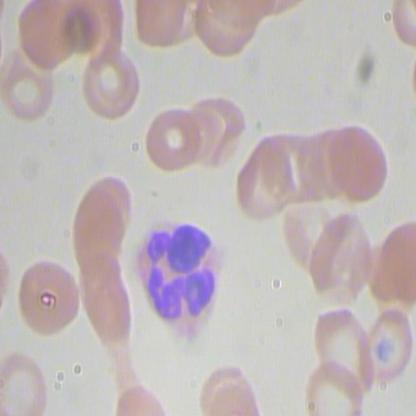RBC: (307, 211, 375, 307), (15, 255, 82, 341), (232, 133, 290, 229), (324, 122, 391, 205), (76, 45, 143, 127), (187, 89, 246, 172), (79, 255, 134, 343), (72, 185, 126, 274), (303, 351, 367, 415), (145, 103, 199, 177), (1, 54, 57, 125), (361, 307, 415, 380), (196, 376, 263, 415), (107, 382, 172, 415)
WBC: (130, 214, 231, 343)
